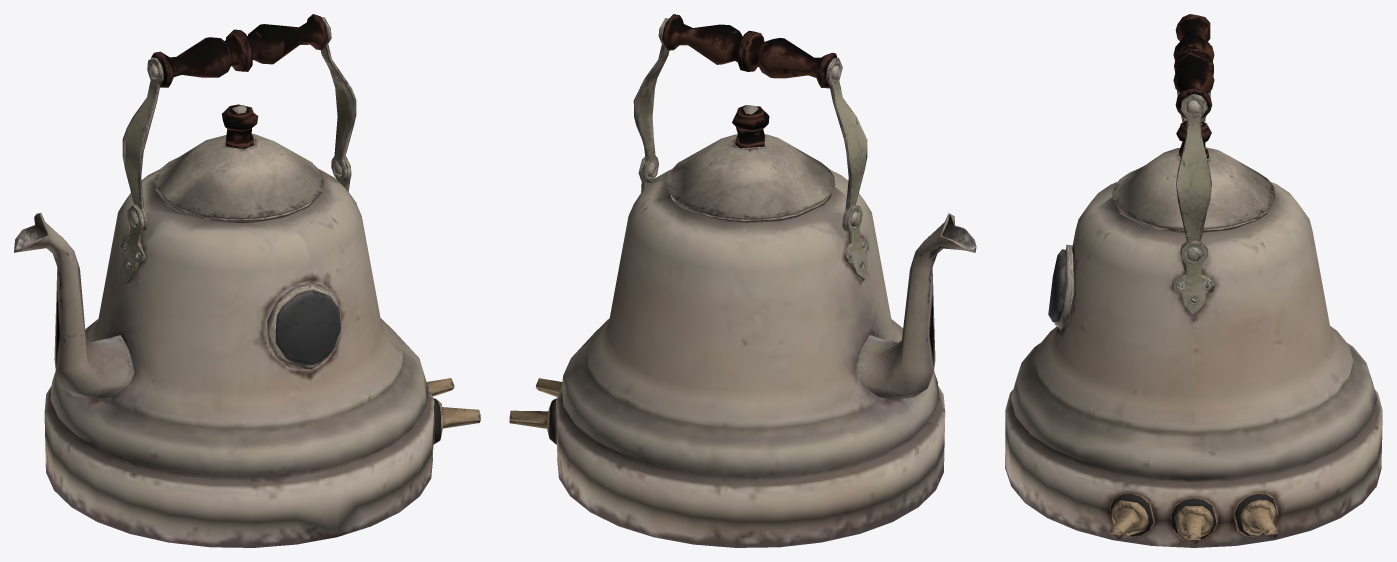
File: kettle.glb
3 views of the same model, side by side, from view 1: azimuth 30°, elevation 25°; view 2: azimuth 150°, elevation 25°; view 3: azimuth 270°, elevation 25° (orthographic). The views are drawn at different scales.
Parts seen in each view (by area): view 1: vintage_electric_kettle; view 2: vintage_electric_kettle; view 3: vintage_electric_kettle.
Part boxes in pixels (x1=…): vintage_electric_kettle: x1=14, y1=14, x2=480, y2=547; vintage_electric_kettle: x1=509, y1=14, x2=976, y2=547; vintage_electric_kettle: x1=1005, y1=14, x2=1382, y2=547.
Bounding box in the file's own units: 0.3201 × 0.3035 × 0.2478.
Materials: 2 (2 with a texture image).
